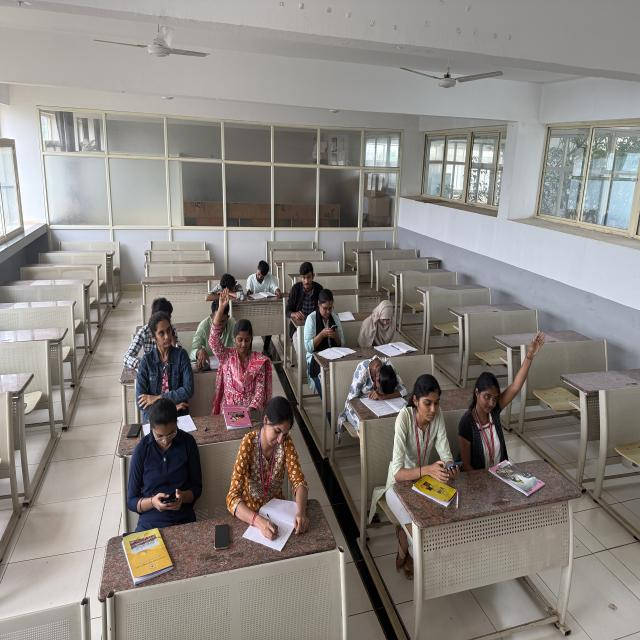Hand Rising: (463, 326, 544, 456), (212, 289, 270, 402)
Reading: (194, 307, 251, 362), (246, 264, 286, 306)
Sleeping: (342, 361, 410, 400), (200, 272, 250, 306)
Using Phone: (135, 402, 214, 511), (398, 381, 464, 476), (306, 295, 348, 347)
Writing: (234, 397, 307, 550)
